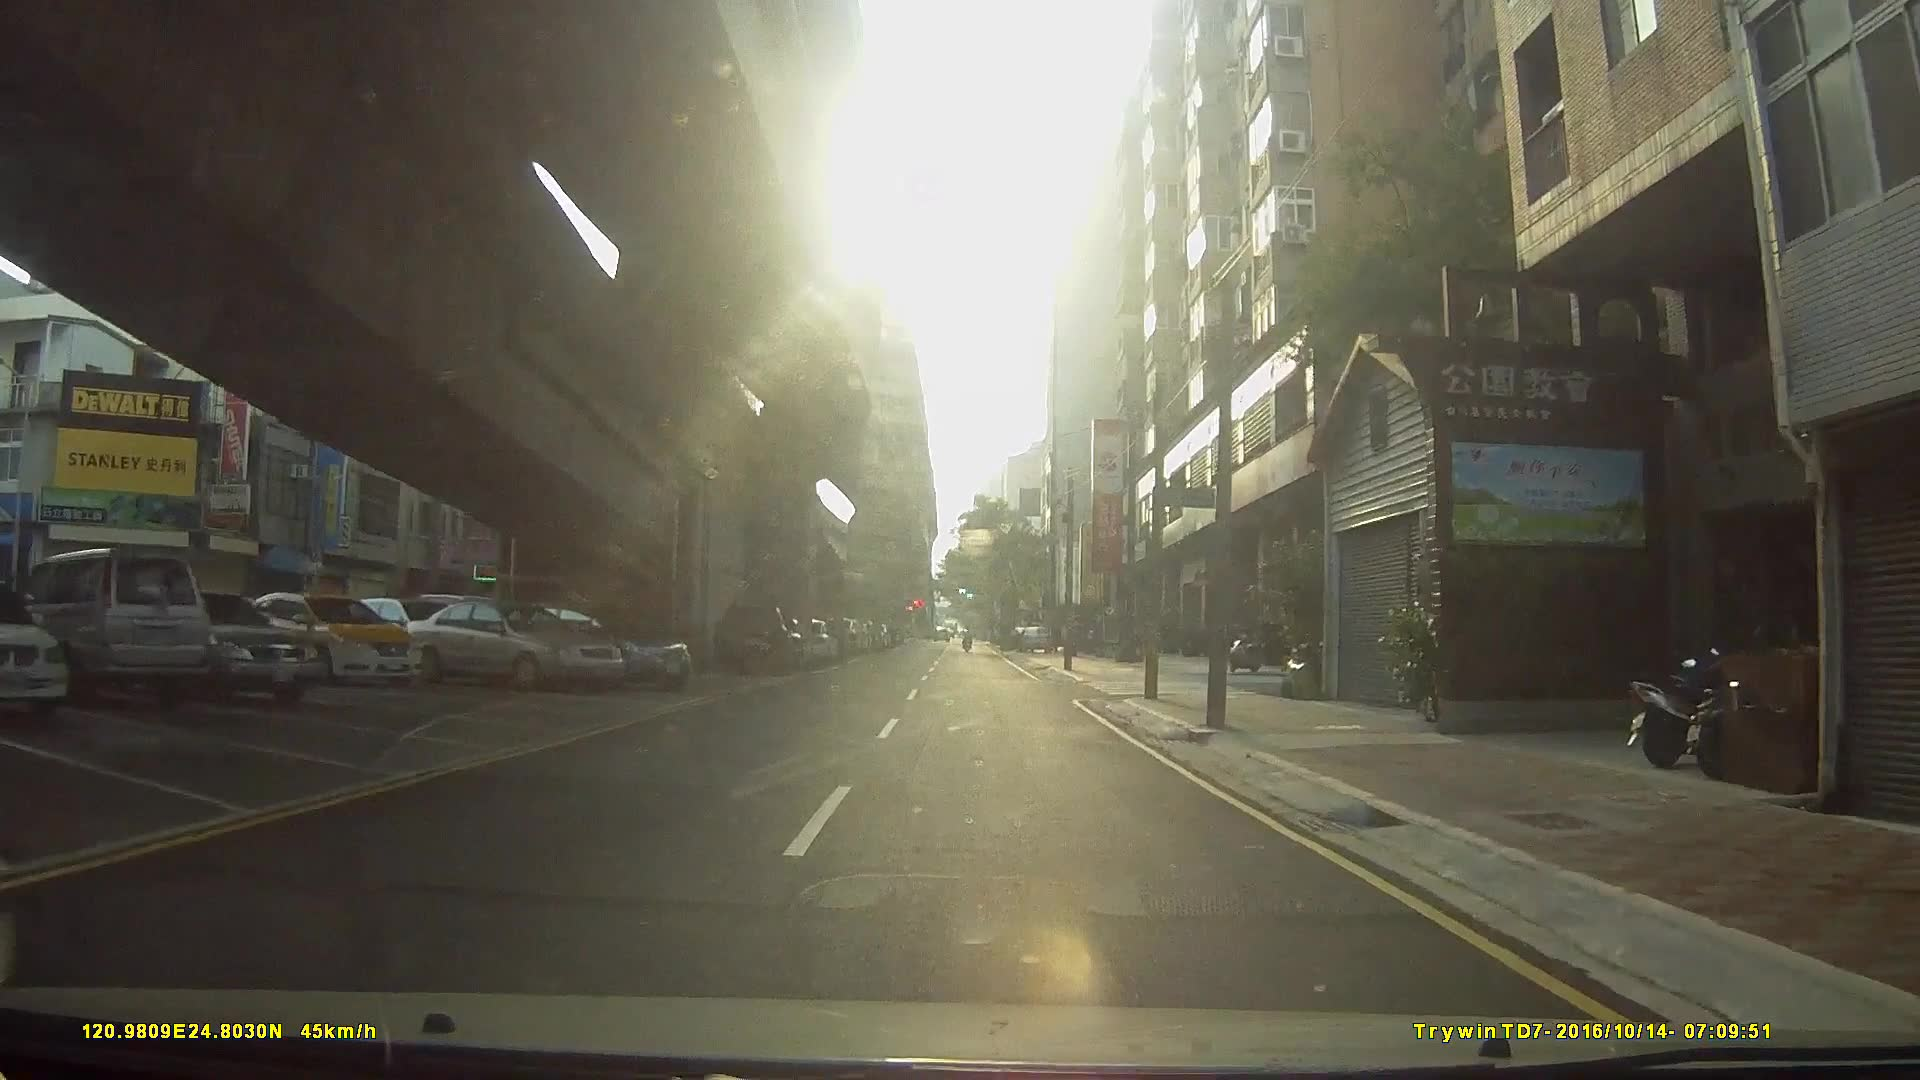vehicle: (13, 546, 214, 707), (103, 588, 319, 705), (389, 596, 618, 691), (471, 599, 691, 692), (245, 591, 421, 687), (0, 579, 66, 717), (709, 599, 796, 676)
